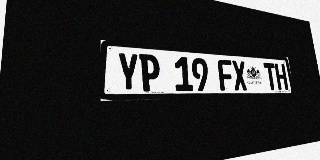1: (174, 56, 193, 91)
9: (191, 57, 210, 91)
F: (217, 59, 234, 91)
H: (274, 63, 288, 90)
P: (139, 54, 161, 92)
T: (263, 63, 278, 90)
X: (231, 60, 248, 90)
Y: (117, 52, 140, 92)
